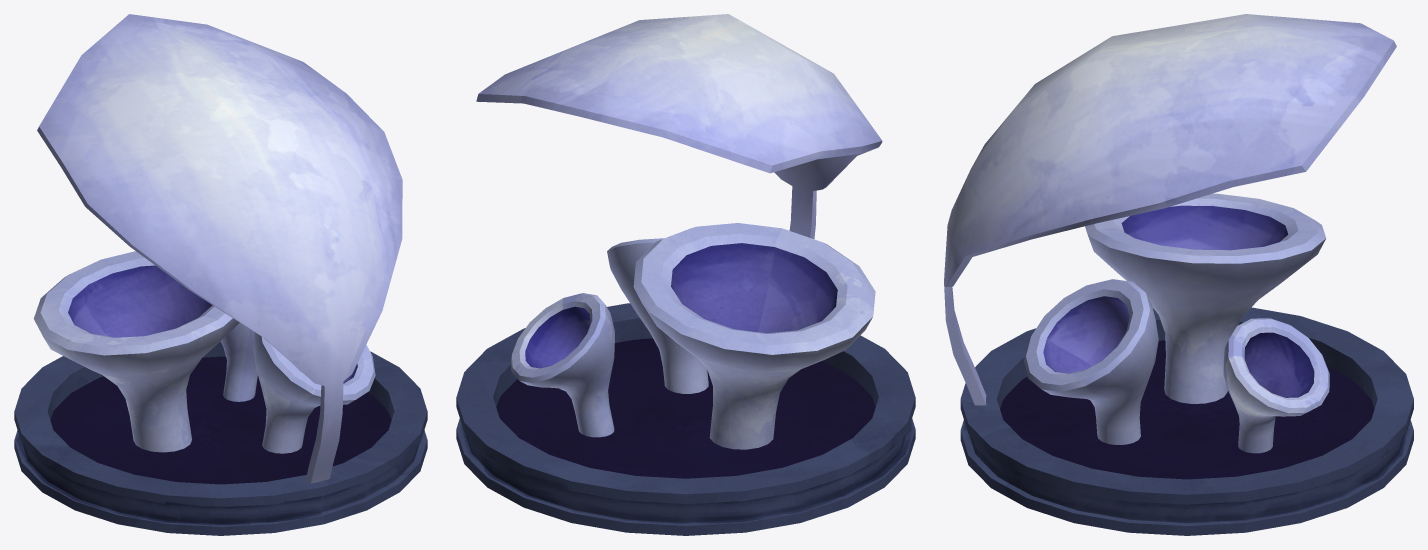
Rendered from Stall.fbx.
3 views of the same model, side by side, from view 1: azimuth 30°, elevation 25°; view 2: azimuth 150°, elevation 25°; view 3: azimuth 270°, elevation 25° (orthographic). The views are drawn at different scales.
Visible parts, largest first — view 1: pCylinder8; view 2: pCylinder8; view 3: pCylinder8.
Part boxes in pixels (box(x1,y1,x2,y2)): pCylinder8: box(14, 14, 427, 535); pCylinder8: box(456, 14, 915, 535); pCylinder8: box(944, 14, 1413, 535).
Bounding box in the file's own units: 598 × 598 × 620.
1 material, 1 textured.
